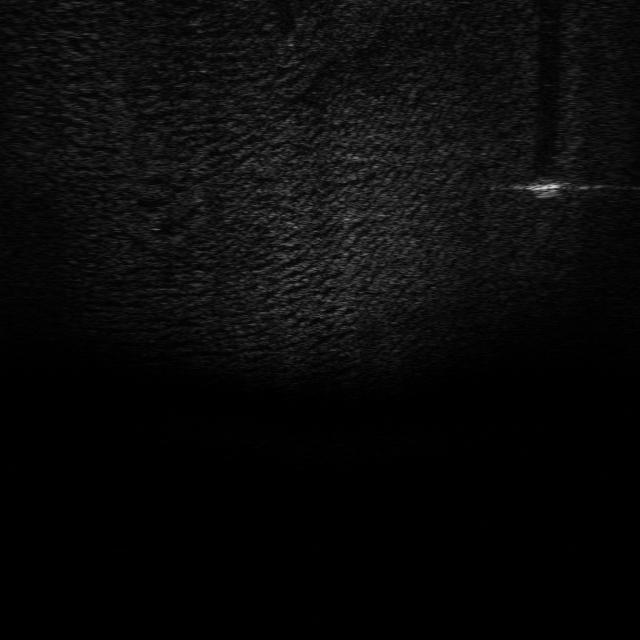cube: (524, 173, 564, 199)
